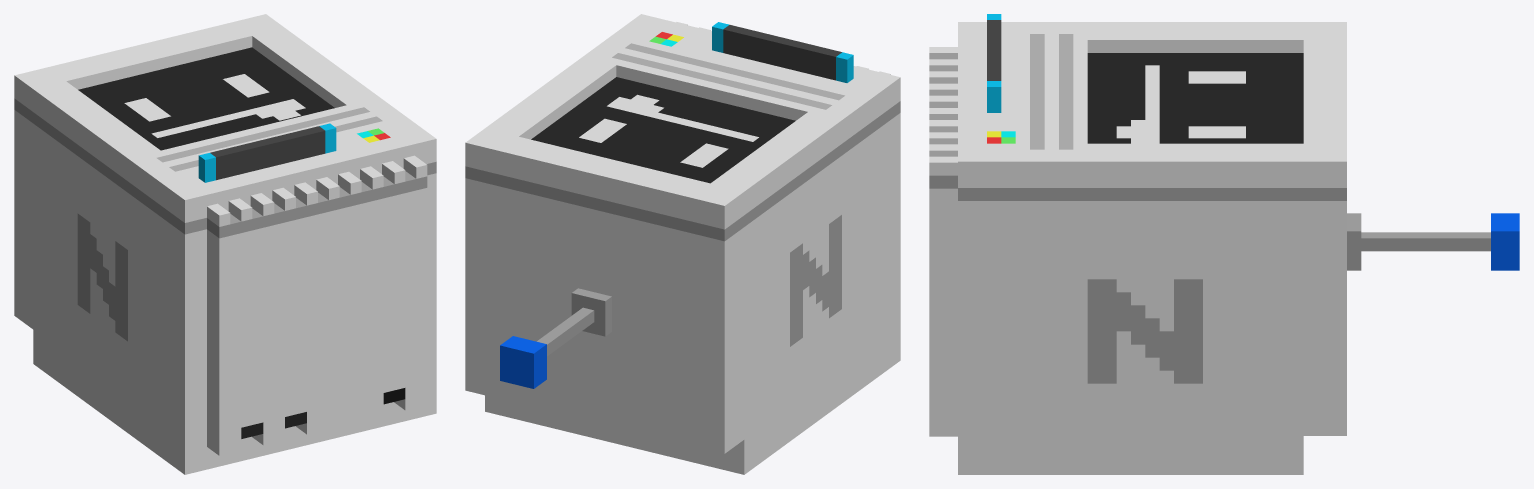
Rendered from computerBot.obj.
3 renders of one model, left to right at view 1: azimuth 30°, elevation 25°; view 2: azimuth 150°, elevation 25°; view 3: azimuth 270°, elevation 25°, orthographic. The views are drawn at different scales.
Visible parts, largest first — view 1: Untitled.004; view 2: Untitled.004; view 3: Untitled.004.
Boxes of the visible parts, bbox=[...] form: Untitled.004: bbox=[14, 14, 436, 474]; Untitled.004: bbox=[465, 14, 900, 474]; Untitled.004: bbox=[929, 14, 1519, 474].
Size of the model in its own units: 2.3 by 2.6 by 4.1.
